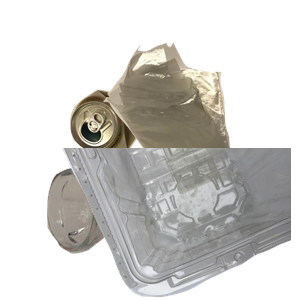glass: (44, 165, 178, 300)
metal: (67, 87, 206, 234)
plastic: (60, 148, 300, 300)
trash: (101, 40, 300, 192)
